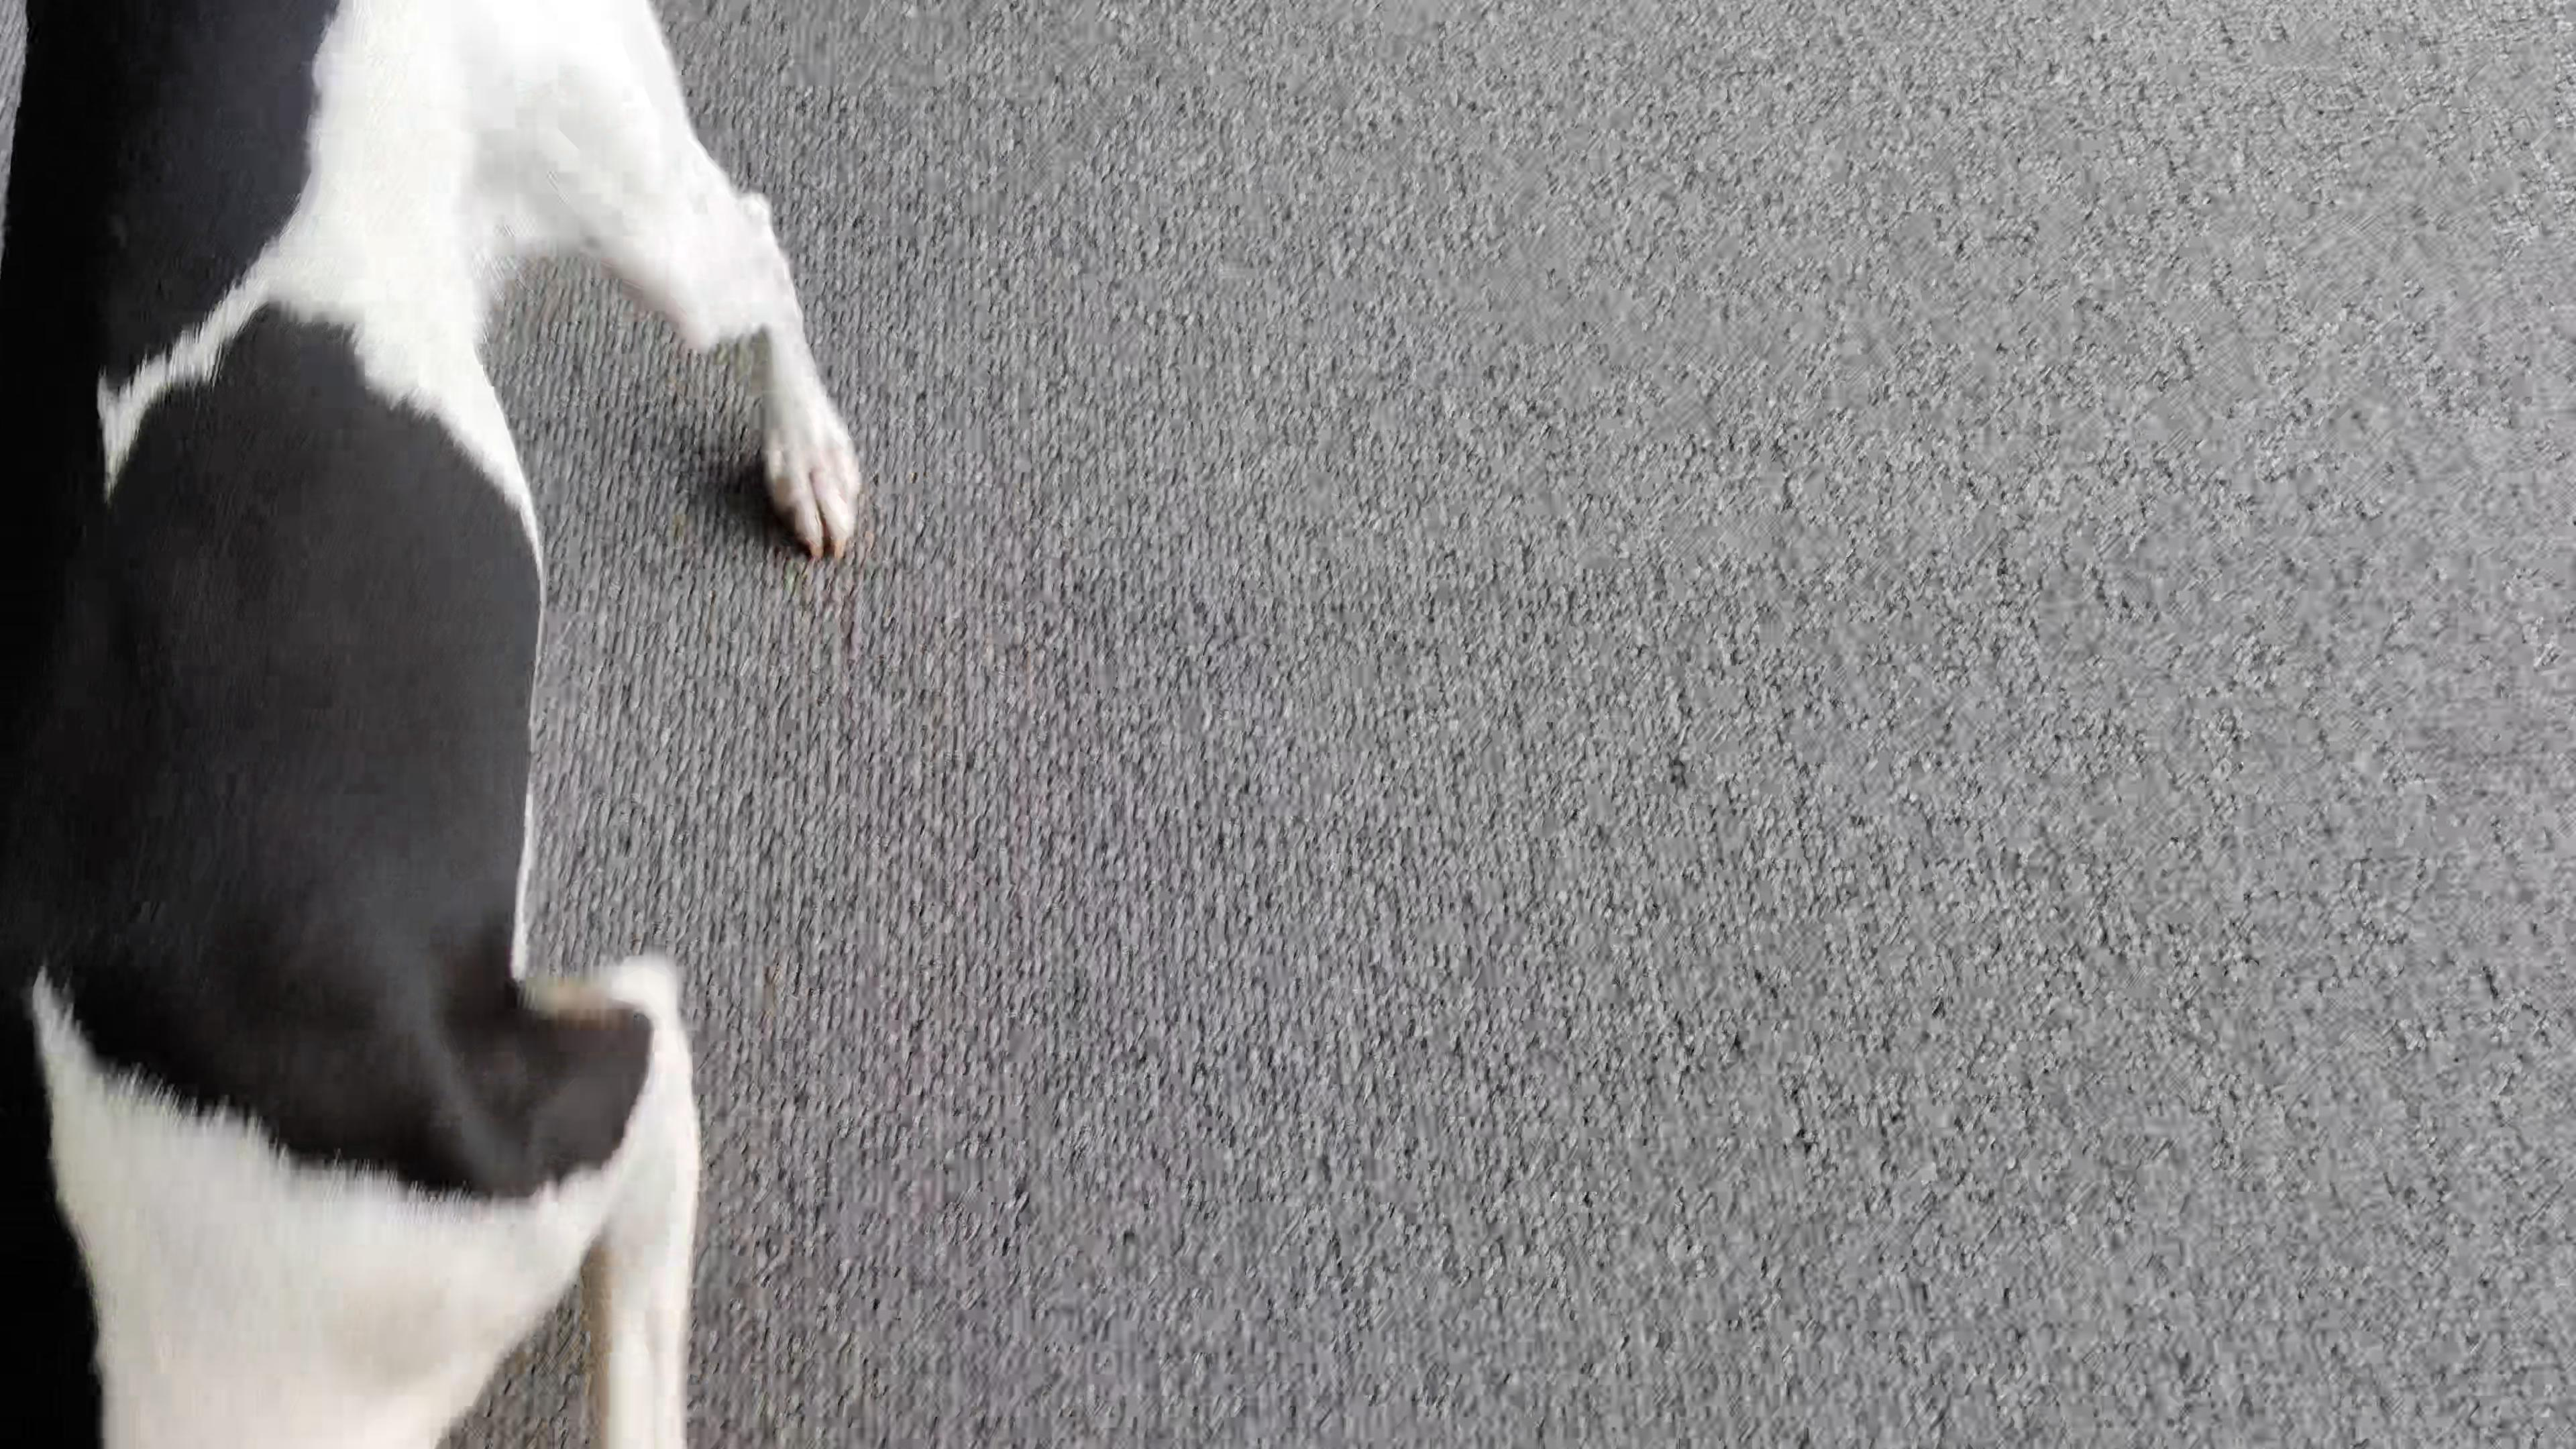Dog: (0, 0, 878, 1449)
